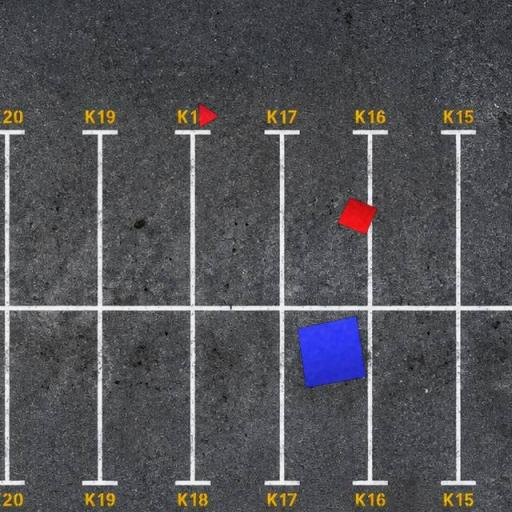BLUE_SQUARE: (297, 315, 367, 389)
RED_SQUARE: (337, 197, 378, 235)
